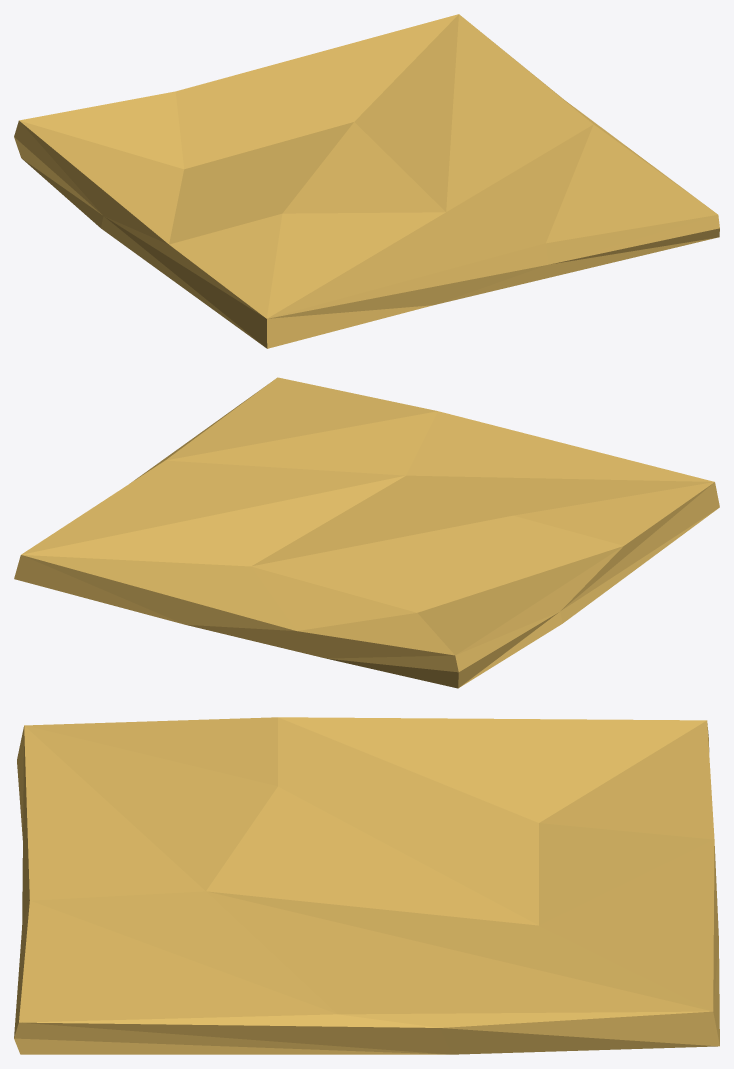
Rendered from cheddar.fbx.
The picture shows the model from 3 angles, top to bottom: view 1: azimuth 30°, elevation 25°; view 2: azimuth 150°, elevation 25°; view 3: azimuth 270°, elevation 25°; orthographic projection. The views are drawn at different scales.
Parts seen in each view (by area): view 1: Cheddar; view 2: Cheddar; view 3: Cheddar.
Boxes of the visible parts, x1,y1,x2,y2 form: Cheddar: (14, 14, 719, 348); Cheddar: (14, 377, 719, 688); Cheddar: (14, 717, 719, 1054).
Size of the model in its own units: 102 by 8.77 by 101.
